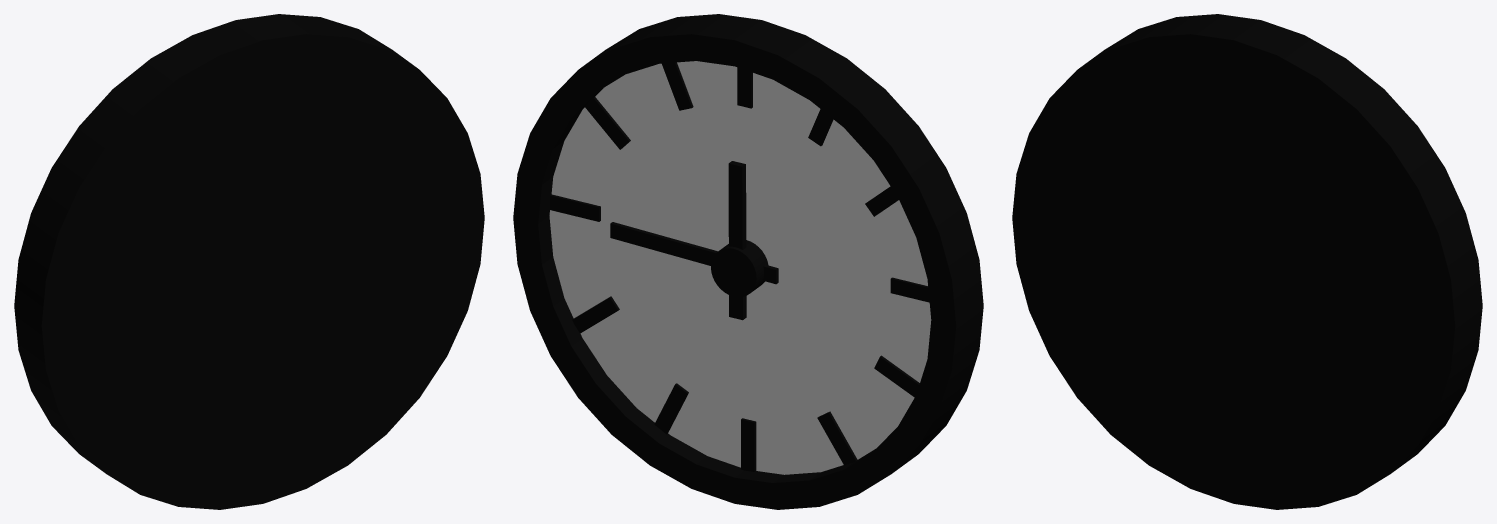
Rendered from ClockV3.fbx.
The picture shows the model from 3 angles, left to right: view 1: azimuth 30°, elevation 25°; view 2: azimuth 150°, elevation 25°; view 3: azimuth 330°, elevation 25°; orthographic projection.
Visible parts, largest first — view 1: Circle; view 2: Circle, Minute, Hour; view 3: Circle.
Boxes of the visible parts, bbox=[...] form: Circle: bbox=[14, 14, 484, 509]; Circle: bbox=[513, 14, 983, 509]; Minute: bbox=[610, 222, 778, 284]; Hour: bbox=[728, 161, 746, 320]; Circle: bbox=[1012, 14, 1482, 509].
Size of the model in its own units: 216 by 216 by 23.98.
